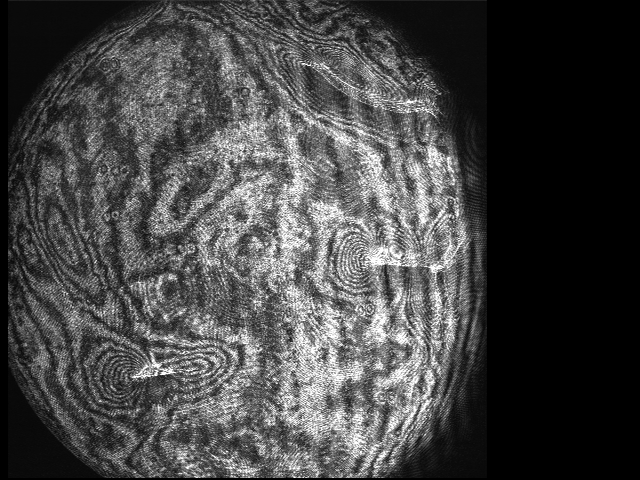plume: (68, 336, 226, 415), (306, 229, 425, 311)
